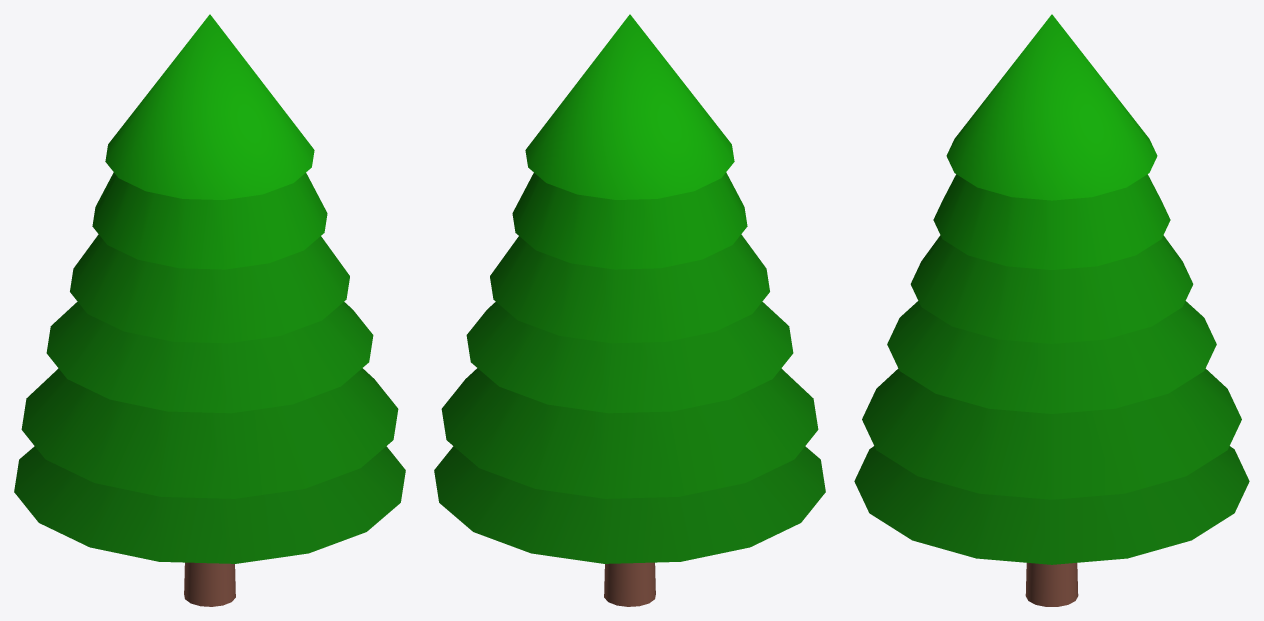
The model's file is Spruce_Cold_Green_Thick_1.fbx.
The picture shows the model from 3 angles, left to right: view 1: azimuth 30°, elevation 25°; view 2: azimuth 150°, elevation 25°; view 3: azimuth 270°, elevation 25°; orthographic projection.
Visible parts, largest first — view 1: Cylinder.919, Cylinder.918, Cylinder.920, Cylinder.921, Cylinder.923, Cylinder.922, Cylinder.917; view 2: Cylinder.919, Cylinder.918, Cylinder.920, Cylinder.921, Cylinder.923, Cylinder.922, Cylinder.917; view 3: Cylinder.919, Cylinder.918, Cylinder.920, Cylinder.921, Cylinder.923, Cylinder.922, Cylinder.917.
Boxes of the visible parts, x1,y1,x2,y2 form: Cylinder.919: (21,368,398,498); Cylinder.918: (14,446,405,563); Cylinder.920: (105,14,314,199); Cylinder.921: (46,302,373,413); Cylinder.923: (70,234,349,343); Cylinder.922: (92,172,327,269); Cylinder.917: (184,562,235,606); Cylinder.919: (441,368,818,498); Cylinder.918: (434,446,825,563); Cylinder.920: (525,14,734,199); Cylinder.921: (466,302,793,413); Cylinder.923: (490,234,769,343); Cylinder.922: (512,172,747,269); Cylinder.917: (604,562,655,606); Cylinder.919: (862,368,1241,499); Cylinder.918: (854,446,1249,564); Cylinder.920: (946,14,1157,200); Cylinder.921: (887,301,1216,413); Cylinder.923: (910,235,1193,343); Cylinder.922: (933,174,1170,269); Cylinder.917: (1025,563,1078,606).
Size of the model in its own units: 349 by 567 by 349.
